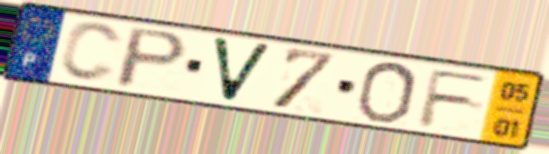7: (272, 46, 337, 112)
C: (56, 20, 126, 85)
F: (415, 67, 494, 129)
O: (353, 60, 421, 125)
P: (111, 25, 192, 91)
V: (208, 34, 277, 106)
